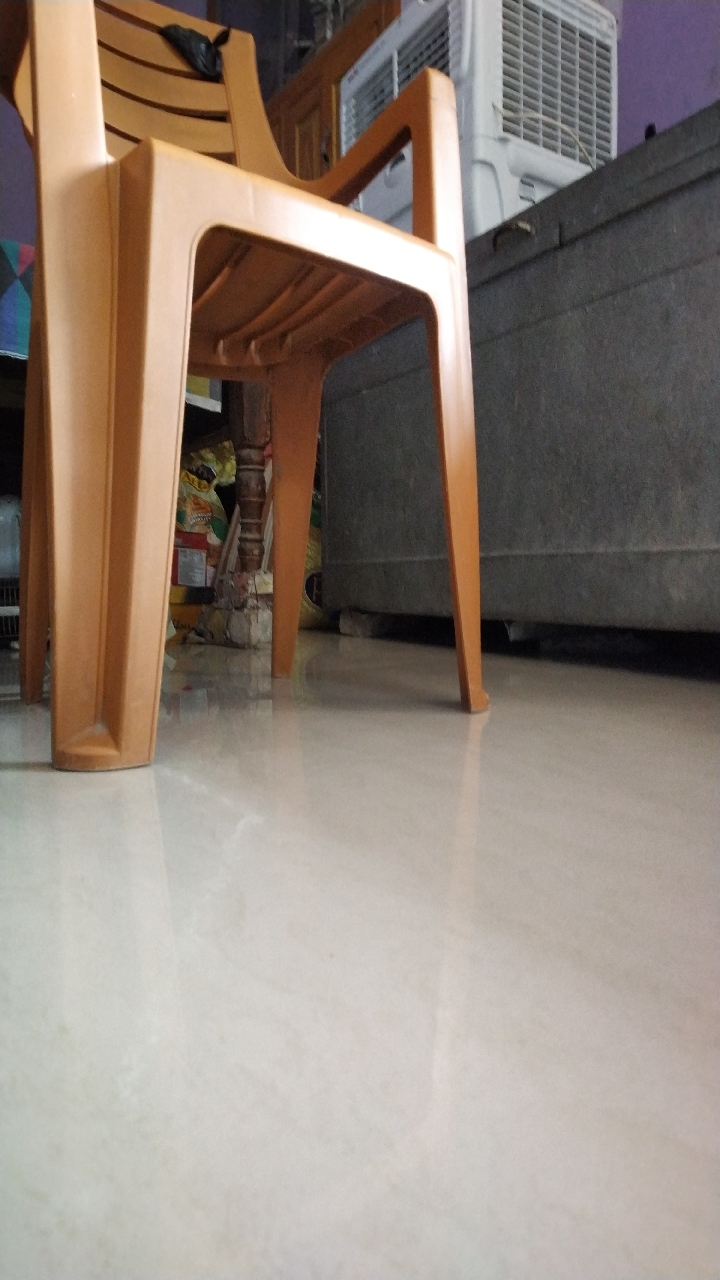Furnitures: (28, 215, 513, 783)
cables: (483, 90, 602, 171)
